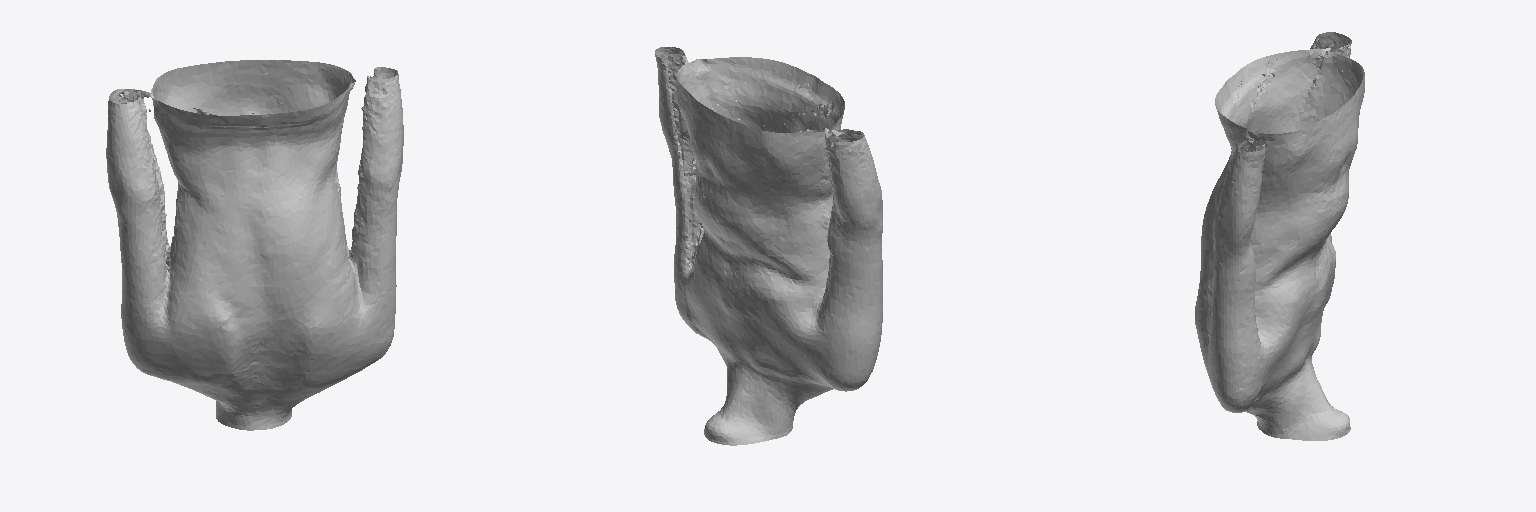
Rendered from pt1 excavatum post op.obj.
3 views of the same model, side by side, from view 1: azimuth 30°, elevation 25°; view 2: azimuth 150°, elevation 25°; view 3: azimuth 270°, elevation 25° (orthographic).
Bounding box in the file's own units: 0.4755 × 0.5937 × 0.2773.